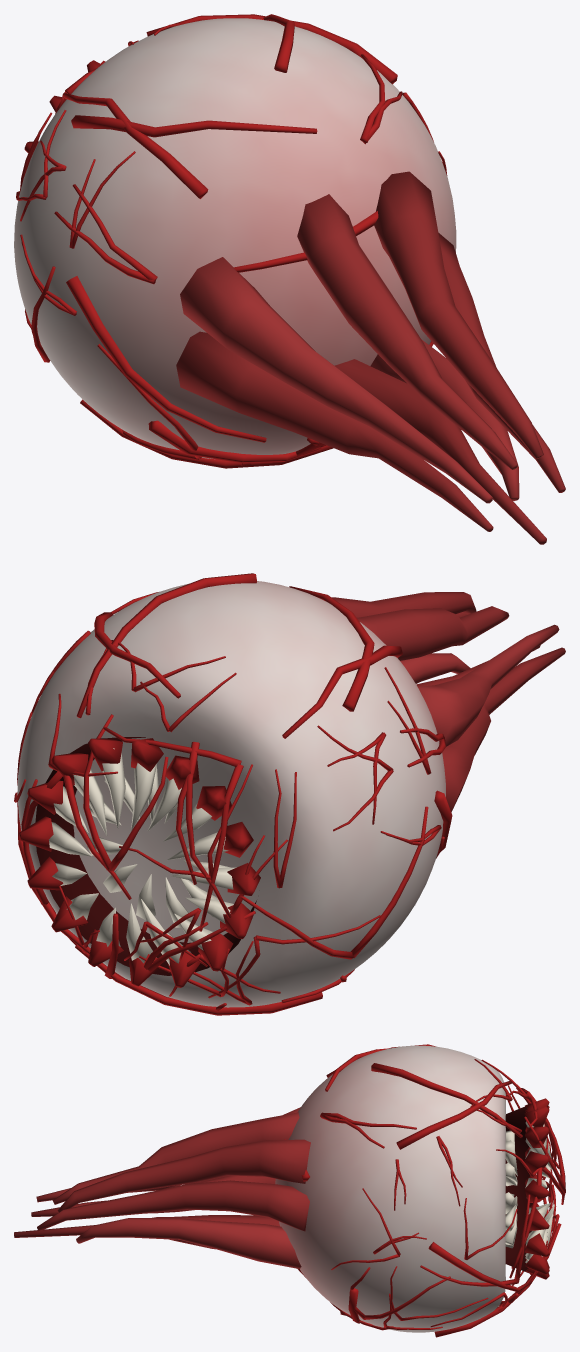
File: eye_of_cthulhu_mouth.glb
The picture shows the model from 3 angles, top to bottom: view 1: azimuth 30°, elevation 25°; view 2: azimuth 150°, elevation 25°; view 3: azimuth 270°, elevation 25°; orthographic projection. The views are drawn at different scales.
Parts seen in each view (by area): view 1: eye_of_cthulhu_mouth; view 2: eye_of_cthulhu_mouth; view 3: eye_of_cthulhu_mouth.
Part boxes in pixels (box(x1,y1,x2,y2)): eye_of_cthulhu_mouth: box(14, 14, 565, 544); eye_of_cthulhu_mouth: box(14, 573, 565, 1015); eye_of_cthulhu_mouth: box(14, 1044, 565, 1337).
Size of the model in its own units: 2.58 by 2.56 by 4.81.
